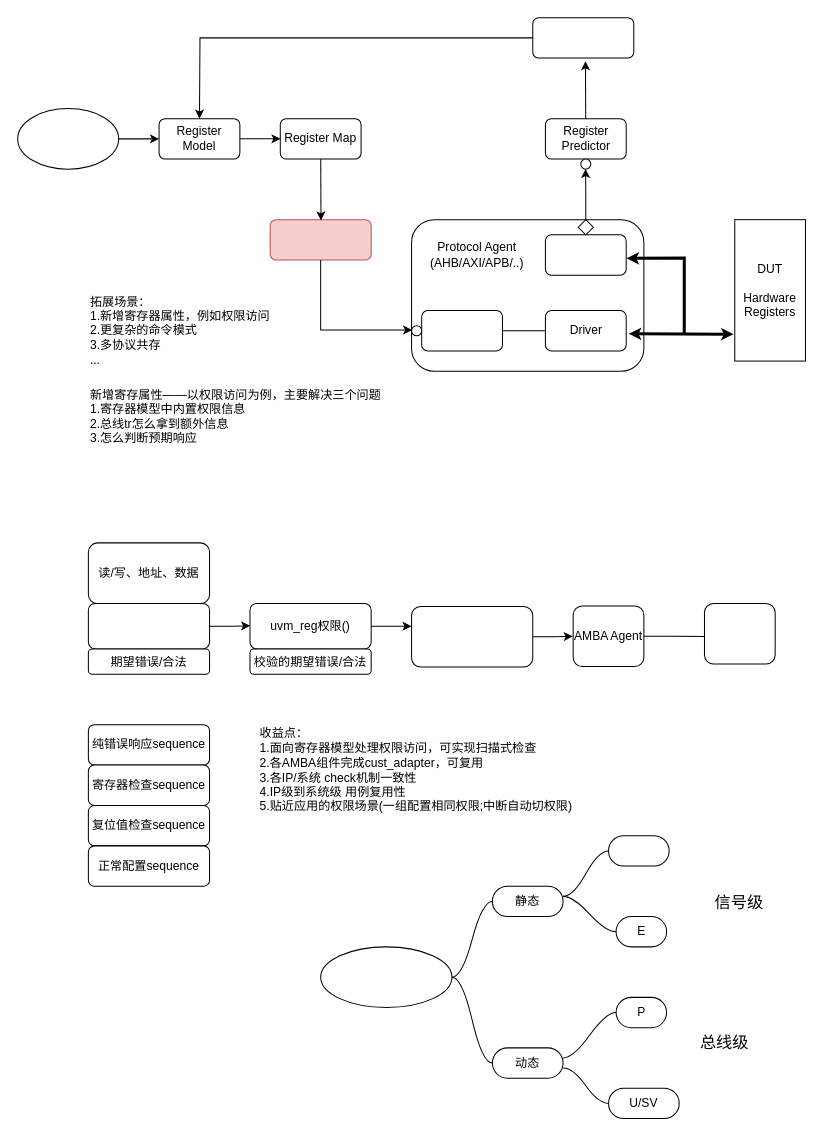
The diagram is 823 pixels wide and 1136 high, and some of its shapes have lost their labels. Here are the shapes that lost their labels. From the top down, the centre of each, then its label:
At point 583,37: "Register Adaptor bus2reg()".
At point 68,138: "Reg Sequence reg.write() reg.read()".
At point 320,239: "Register Adaptor reg2bus()".
At point 585,254: "Monitor".
At point 461,330: "Sequencer".
At point 148,625: "当前权限模式".
At point 472,636: "Adapter".
At point 739,633: "DUT".
At point 638,850: "SE".
At point 386,976: "寄存器权限分类".
